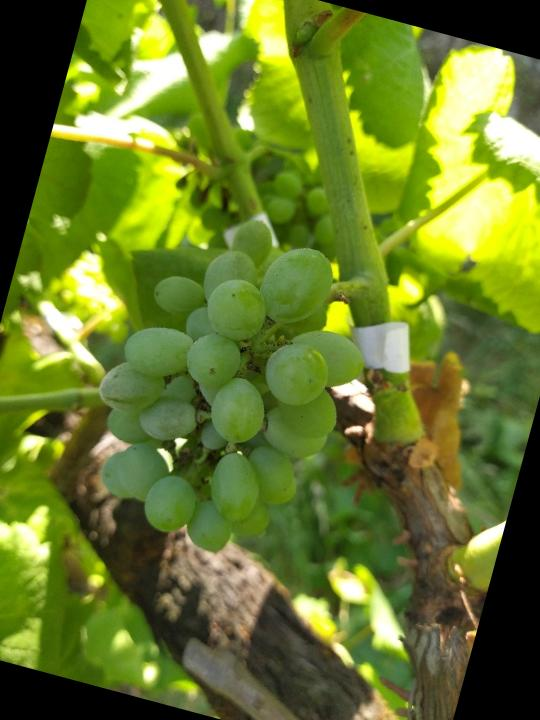grape: (61, 193, 398, 583)
